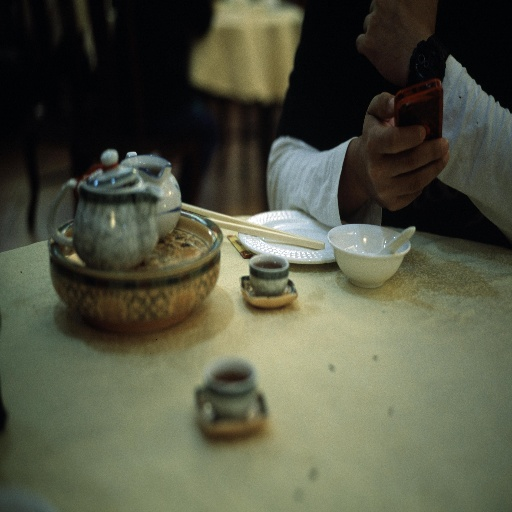hand: (338, 89, 458, 213), (353, 0, 429, 95)
